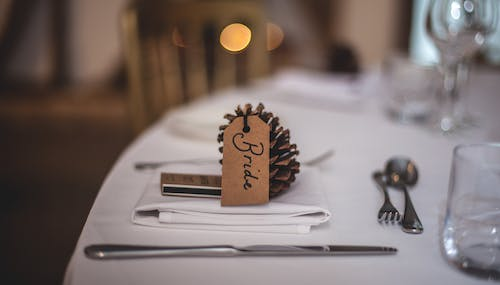knife: (79, 240, 400, 256)
